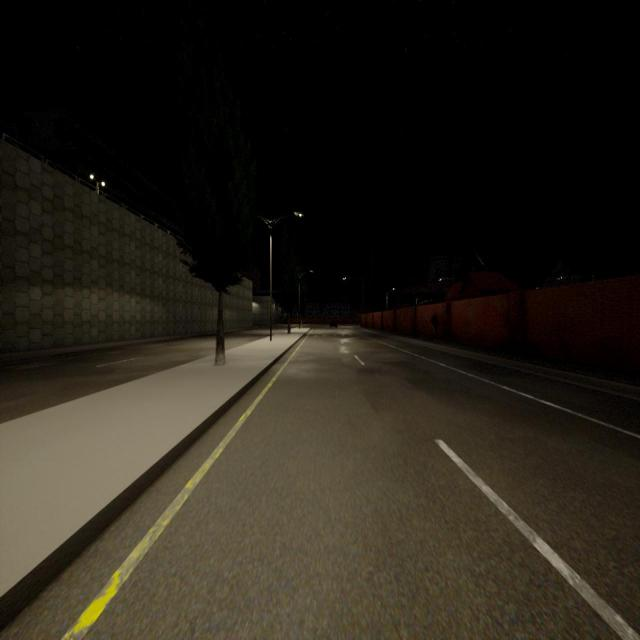Pedestrian: (431, 310, 438, 340)
Vehicle: (330, 320, 337, 327)
